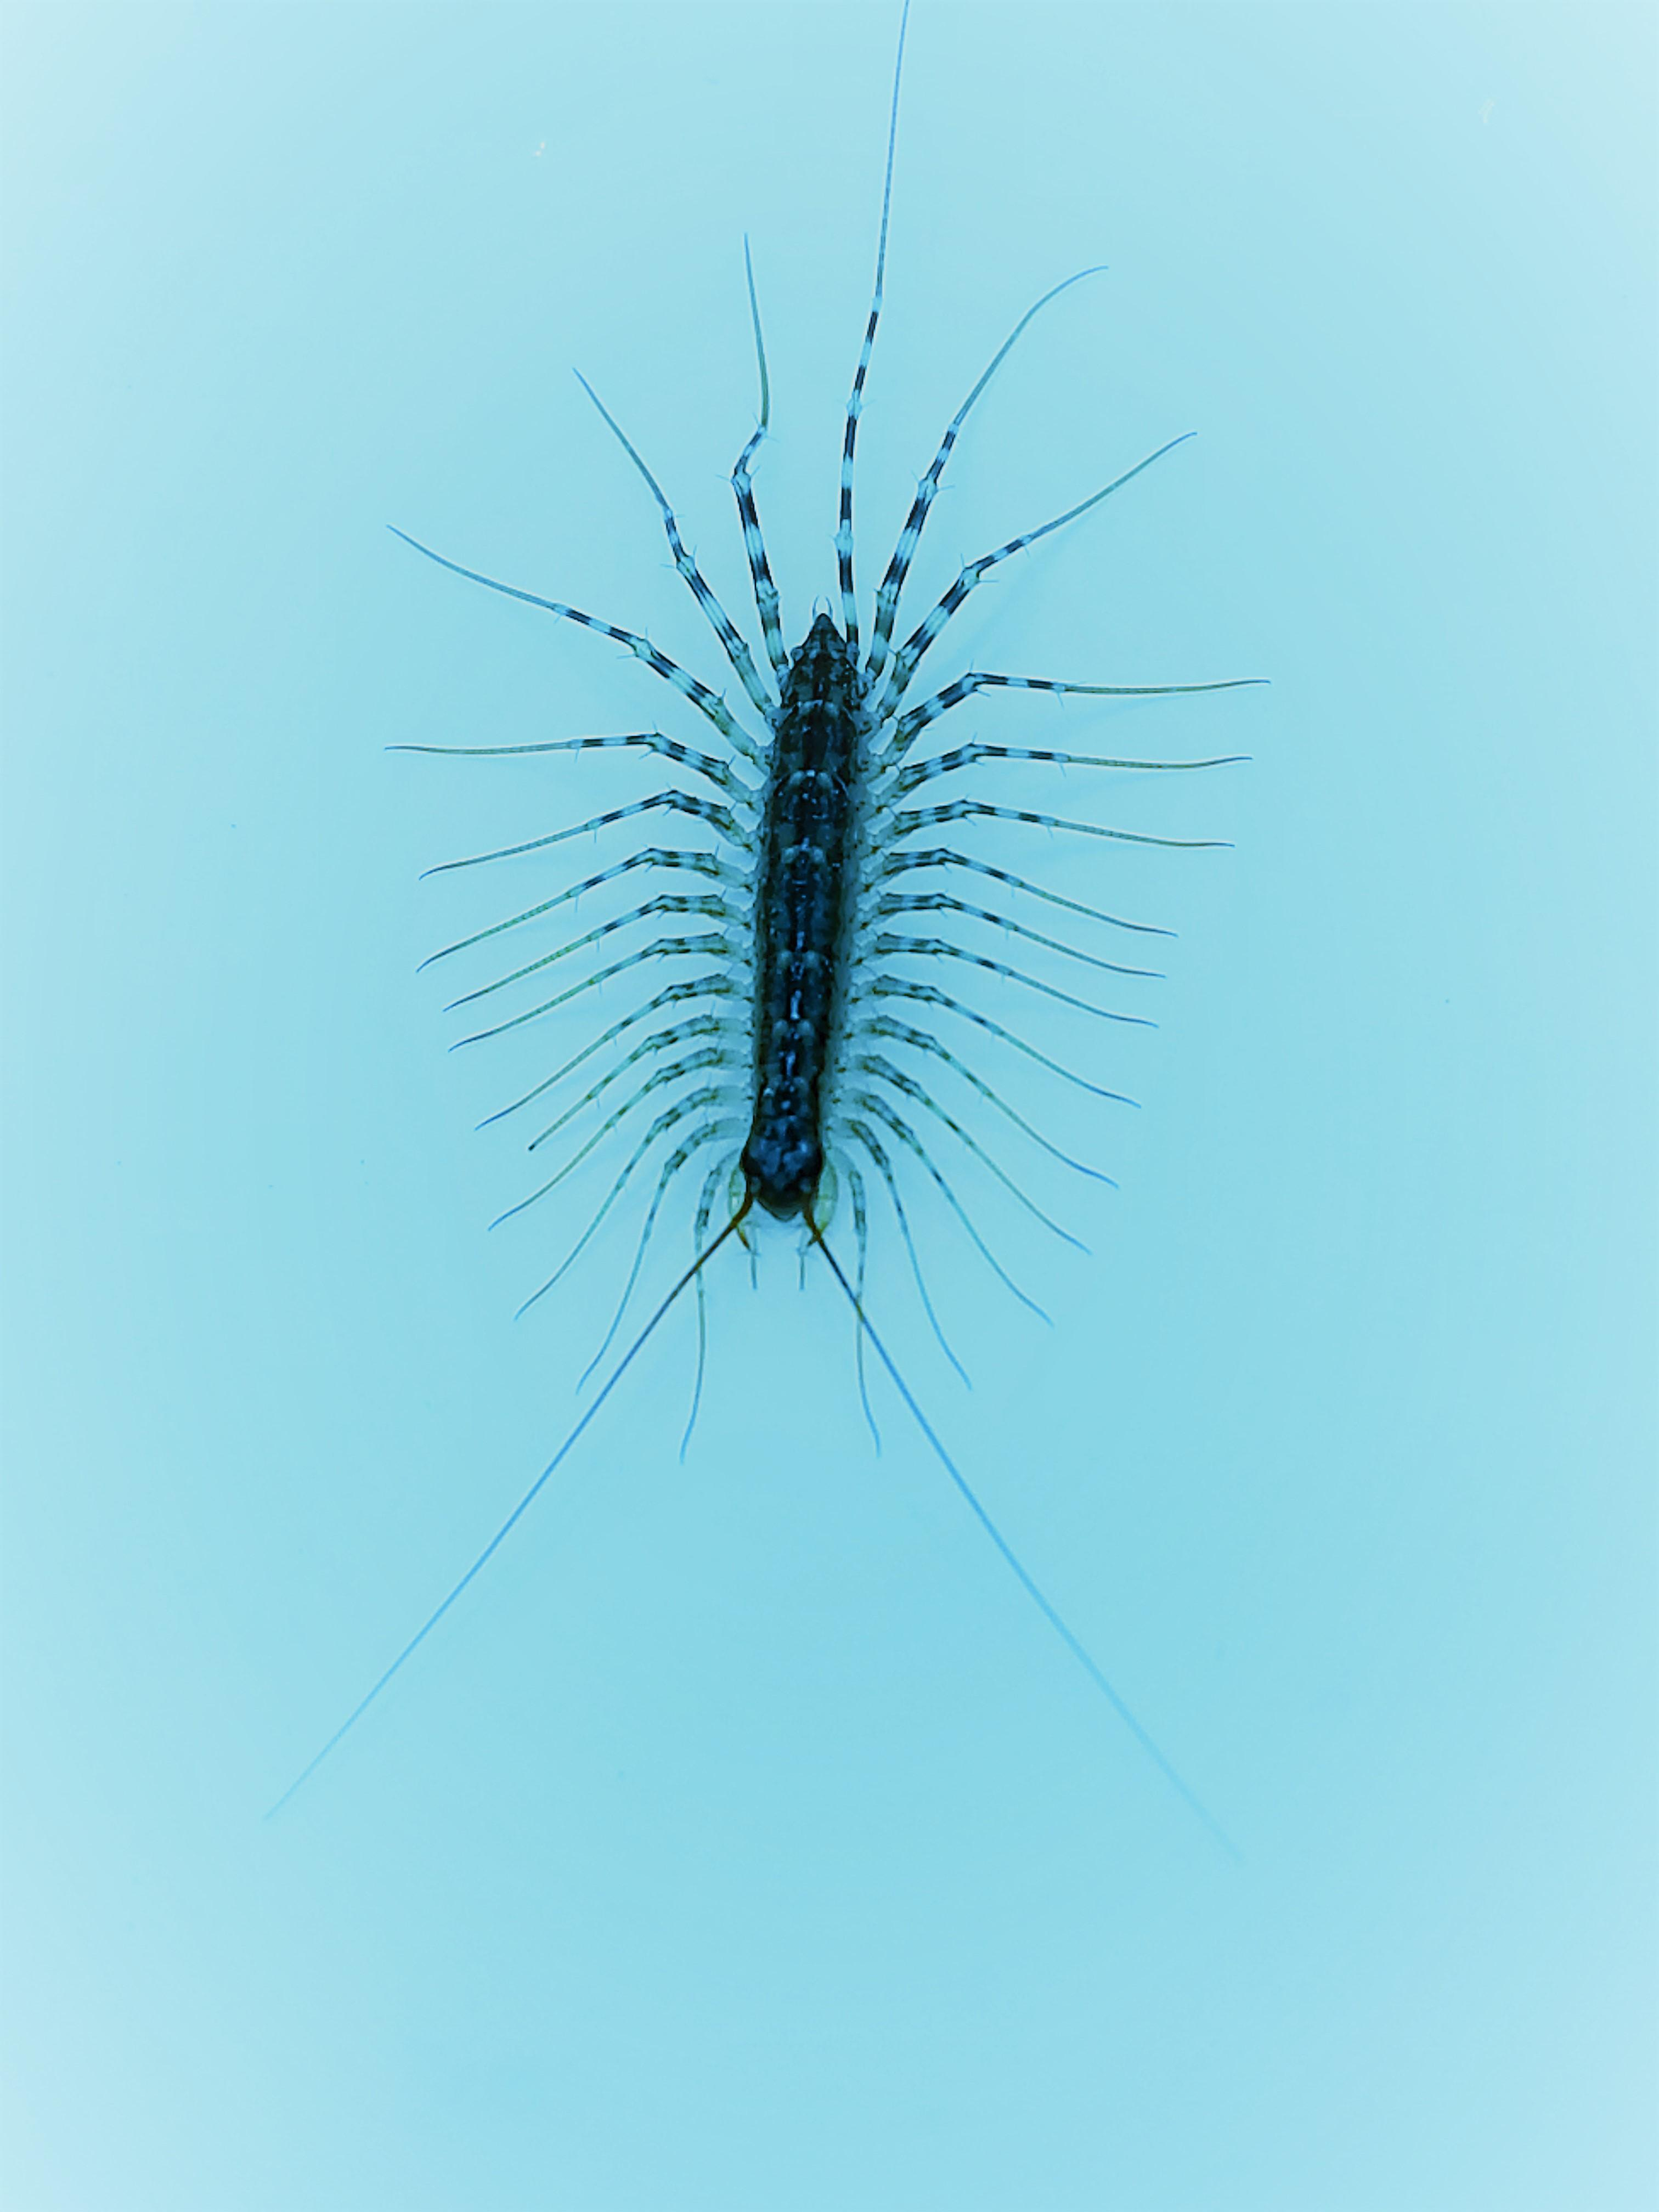centipede: (321, 197, 1286, 1838)
